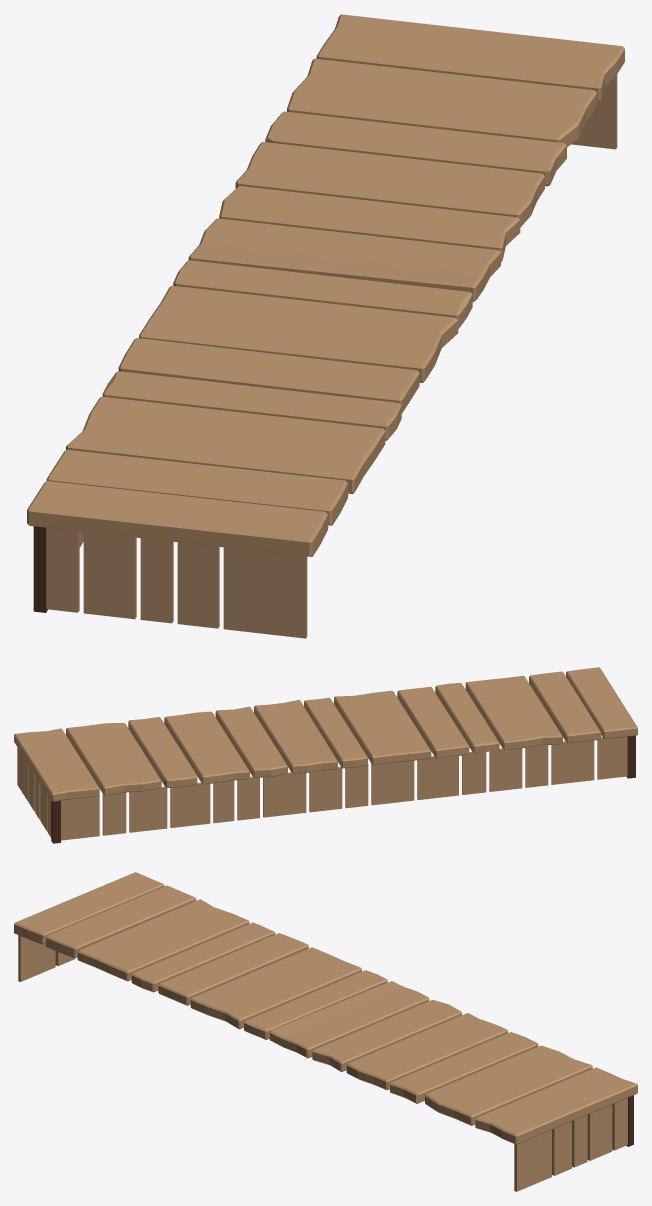
File: small-foundation-b.glb
The picture shows the model from 3 angles, top to bottom: view 1: azimuth 30°, elevation 25°; view 2: azimuth 150°, elevation 25°; view 3: azimuth 270°, elevation 25°; orthographic projection. The views are drawn at different scales.
Visible parts, largest first — view 1: Small Foundation B (×2); view 2: Small Foundation B (×2); view 3: Small Foundation B.
Part boxes in pixels (<box>): Small Foundation B (×2): <box>27,14,624,638</box>; Small Foundation B (×2): <box>14,667,637,843</box>; Small Foundation B: <box>14,872,637,1191</box>.
Bounding box in the file's own units: 4.06 × 0.4441 × 4.06.
